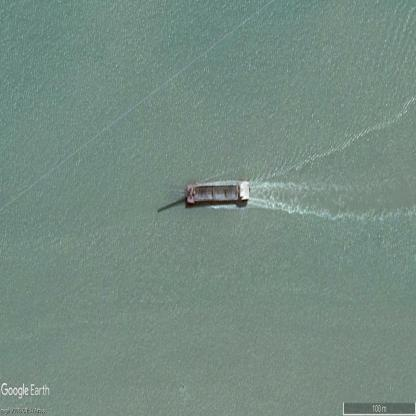ship: (184, 182, 252, 204)
